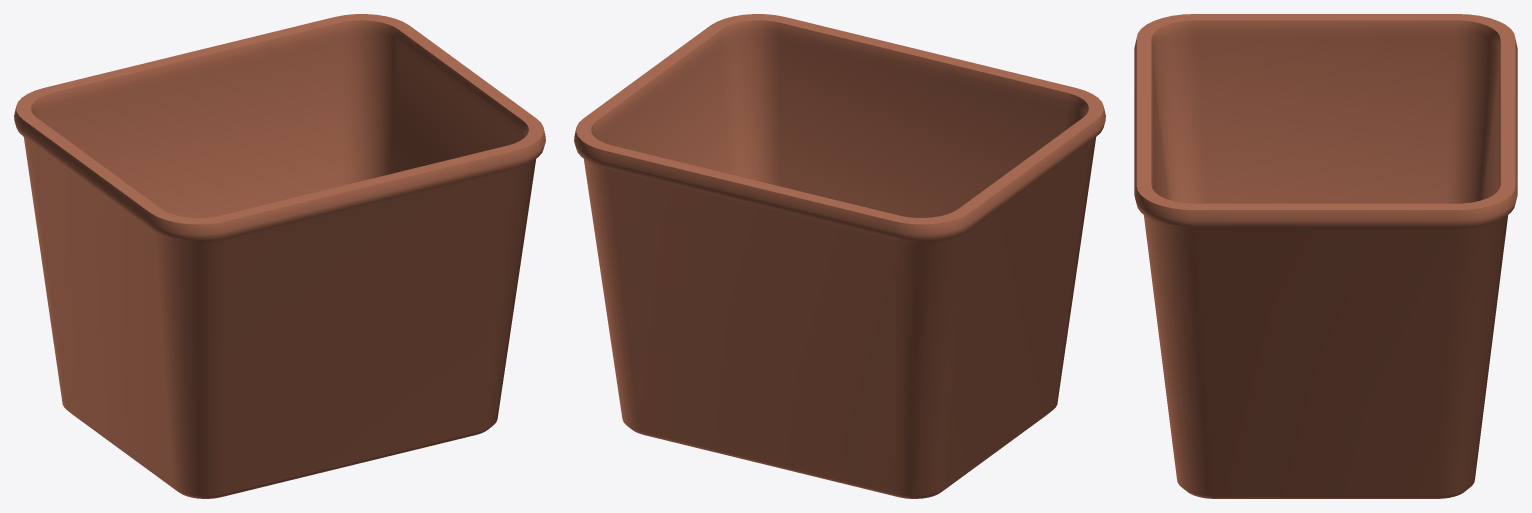
Rendered from DC_CollectionBin.fbx.
3 renders of one model, left to right at view 1: azimuth 30°, elevation 25°; view 2: azimuth 150°, elevation 25°; view 3: azimuth 270°, elevation 25°, orthographic. The views are drawn at different scales.
Parts seen in each view (by area): view 1: Part_BinBody; view 2: Part_BinBody; view 3: Part_BinBody.
Boxes of the visible parts, x1=… form: Part_BinBody: x1=14, y1=14, x2=545, y2=498; Part_BinBody: x1=574, y1=14, x2=1105, y2=498; Part_BinBody: x1=1134, y1=14, x2=1517, y2=498.
Bounding box in the file's own units: 0.22 × 0.16 × 0.18.
